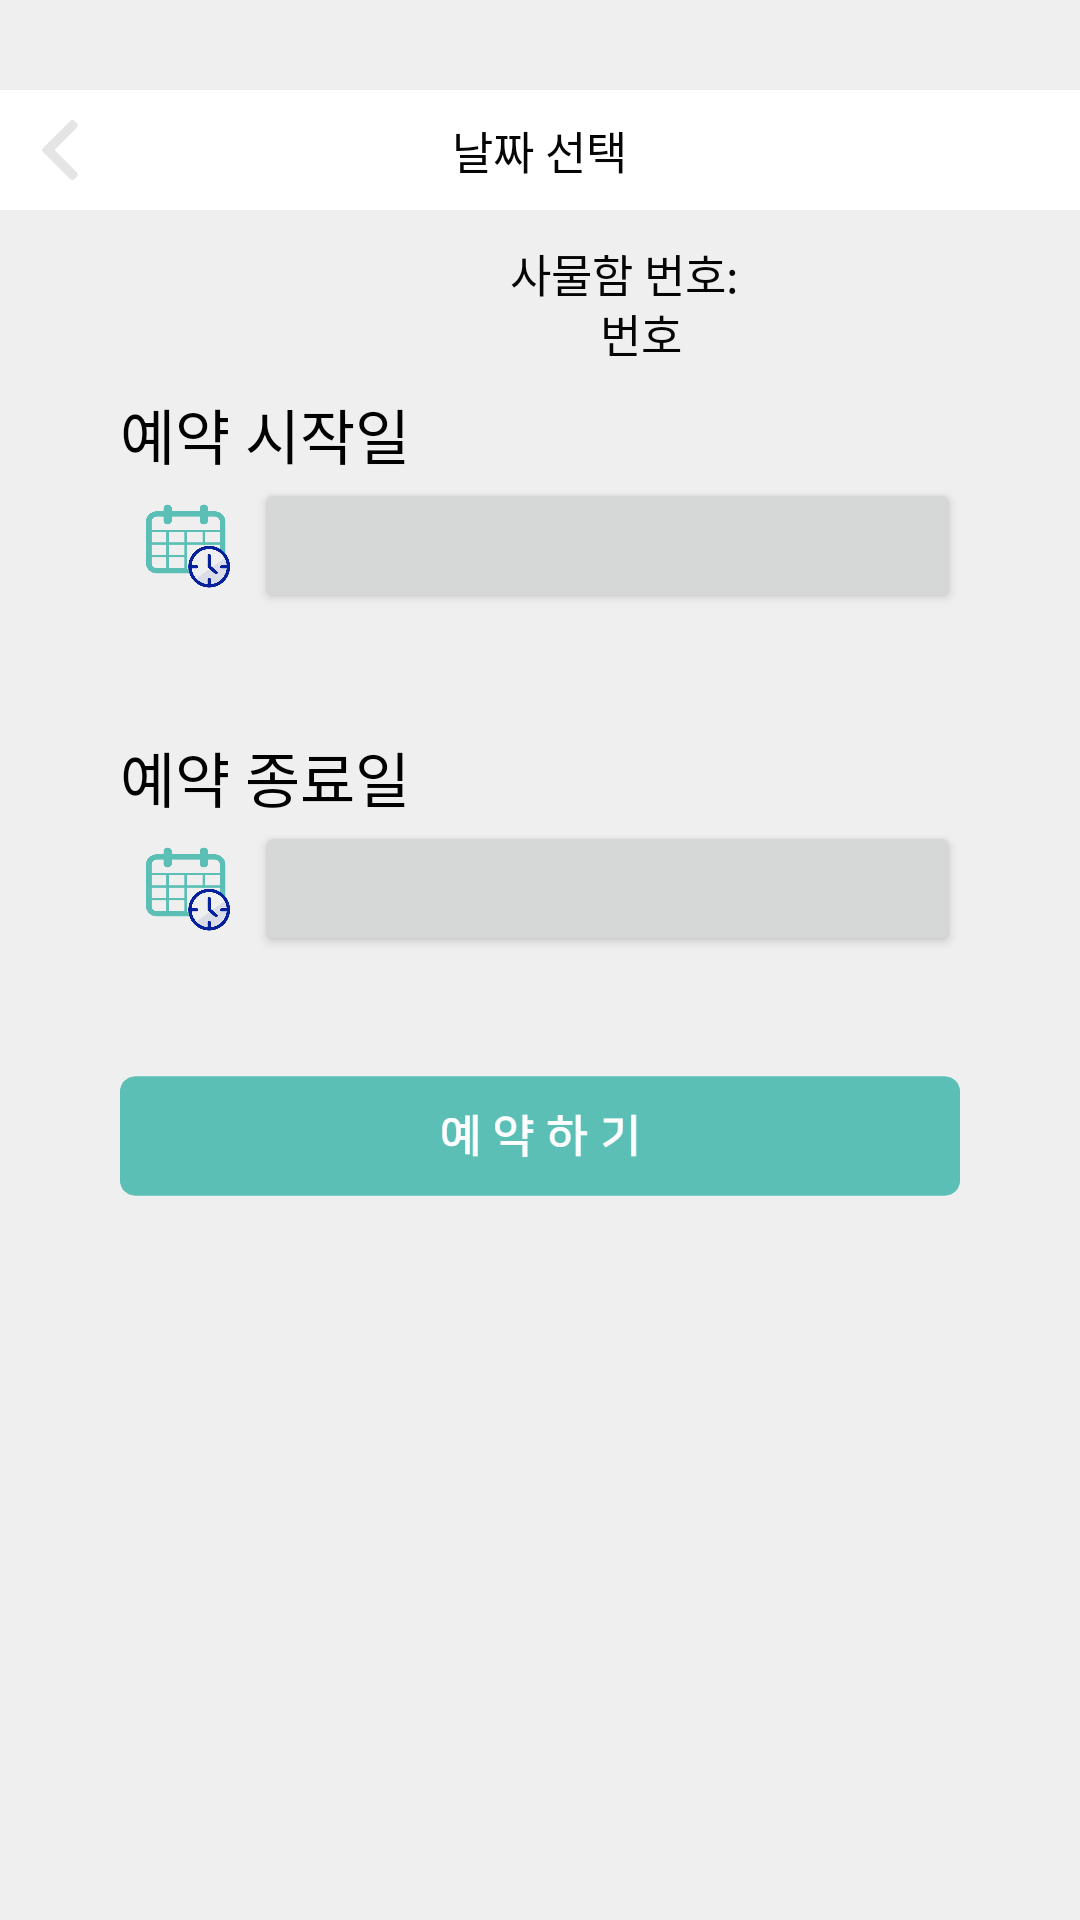

Screen size 1080×1920. Icon name, then its box in pixels as (x1, y1, x2, y2):
left arrow: (43, 120, 77, 180)
select reser: (146, 504, 230, 588), (146, 847, 230, 931)
